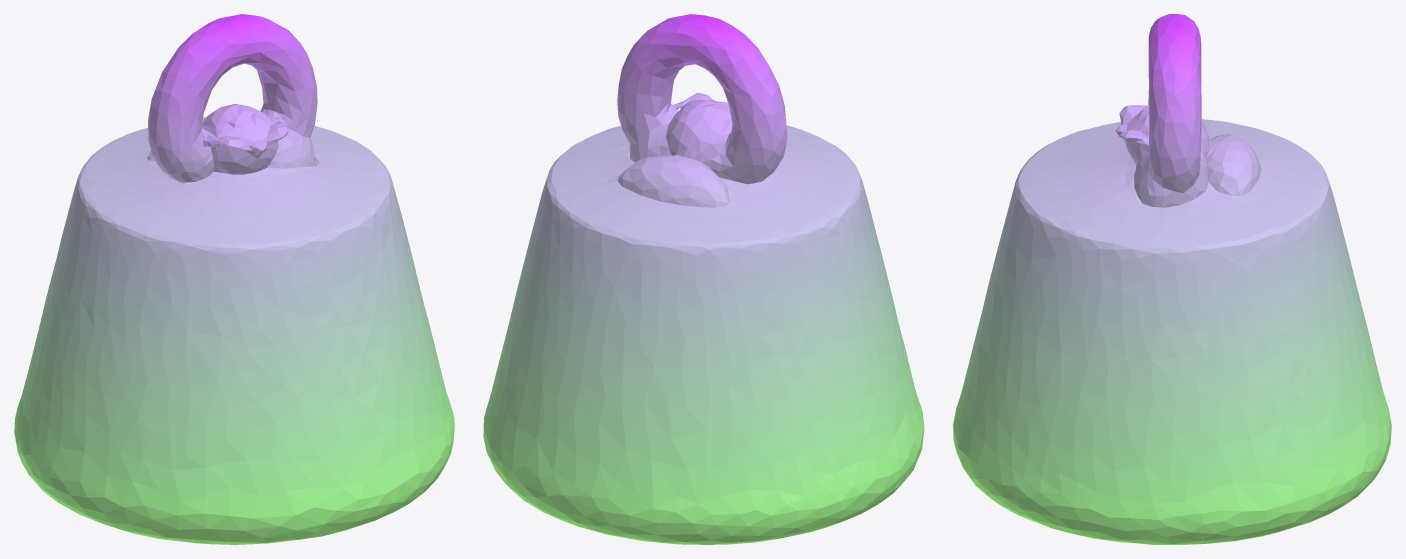
File: 7_cyb_laser_gradient_fish_scales_2950_2026_10_03_b9c823.glb
The picture shows the model from 3 angles, left to right: view 1: azimuth 30°, elevation 25°; view 2: azimuth 150°, elevation 25°; view 3: azimuth 270°, elevation 25°; orthographic projection.
Visible parts, largest first — view 1: geometry_0; view 2: geometry_0; view 3: geometry_0.
Boxes of the visible parts, bbox=[...] form: geometry_0: bbox=[14, 14, 454, 544]; geometry_0: bbox=[483, 14, 924, 544]; geometry_0: bbox=[953, 14, 1391, 544].
Size of the model in its own units: 0.8601 by 1 by 0.8593.
